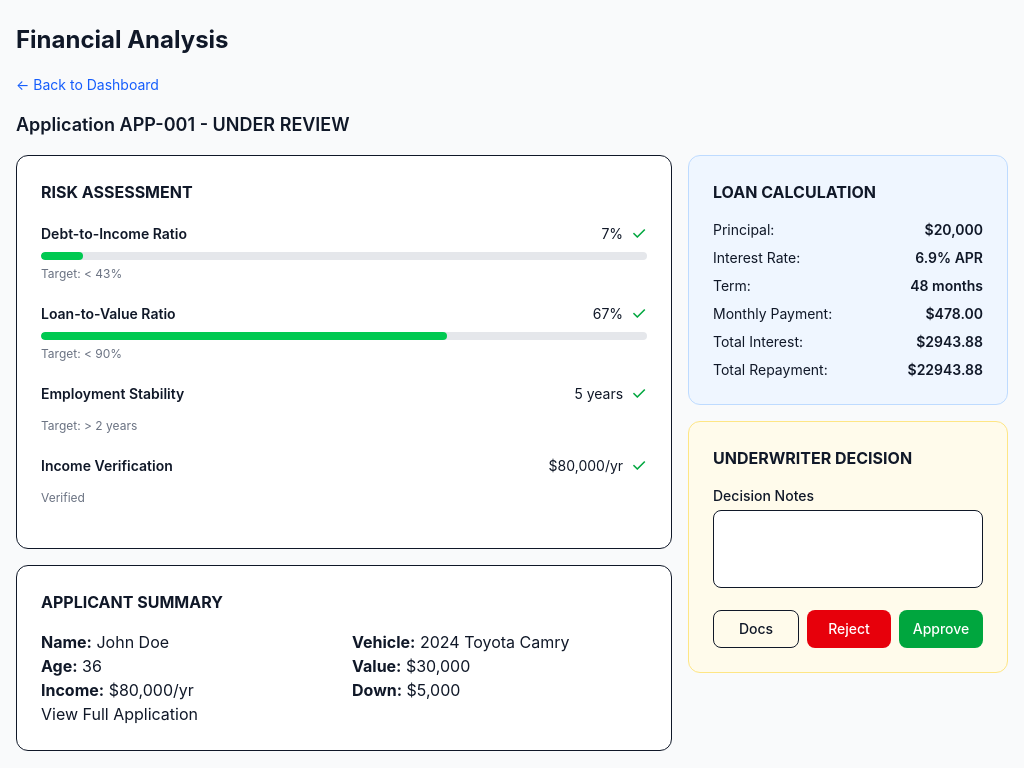
Test case: UnderwriterAnalysisPage › reject modal › displays all rejection reasons
Click the button "Reject".
click(849, 629)  # box [807, 610, 891, 648]
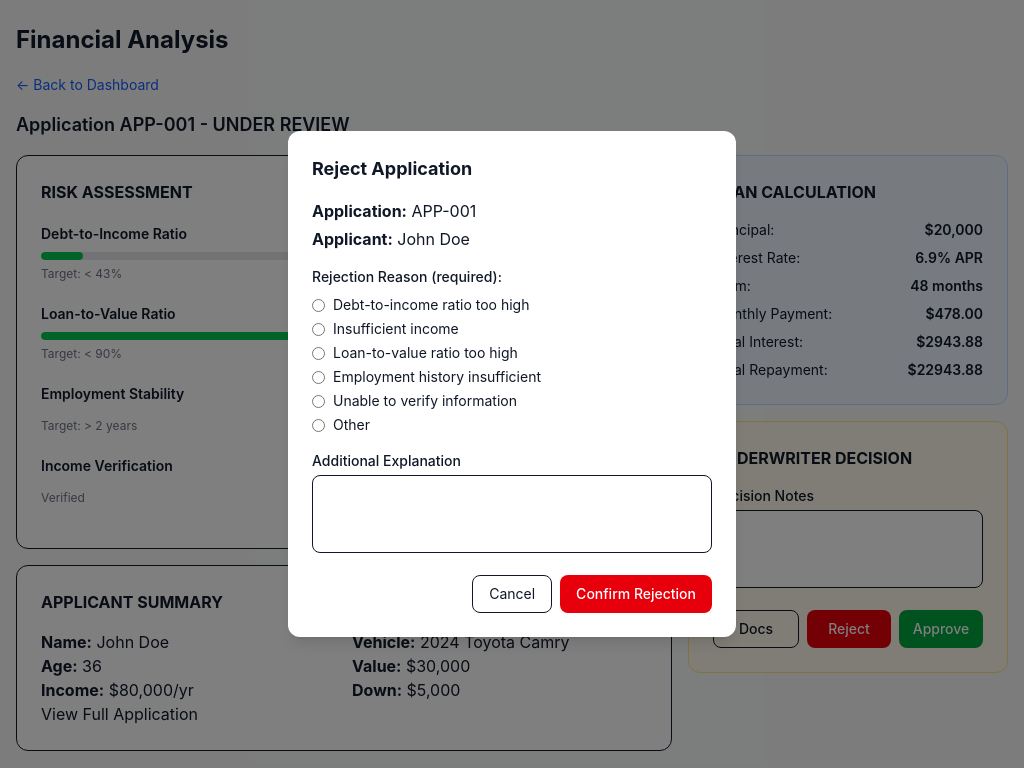
Expected: the radio button labelled "Debt-to-income ratio too high" is shown, [312, 298, 325, 312]
Expected: the radio button labelled "Insufficient income" is shown, [312, 322, 325, 336]
Expected: the radio button labelled "Loan-to-value ratio too high" is shown, [312, 346, 325, 360]
